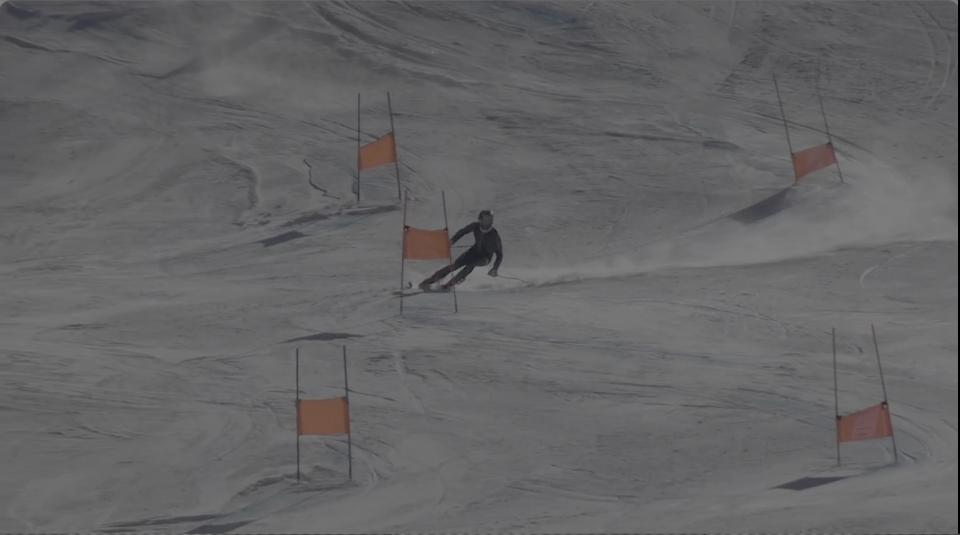gate: (808, 296, 918, 486), (276, 305, 370, 506), (385, 82, 427, 330), (338, 72, 396, 216), (432, 190, 480, 328), (766, 79, 815, 208), (868, 321, 902, 465), (810, 94, 849, 200), (825, 324, 846, 469), (290, 341, 307, 488)
